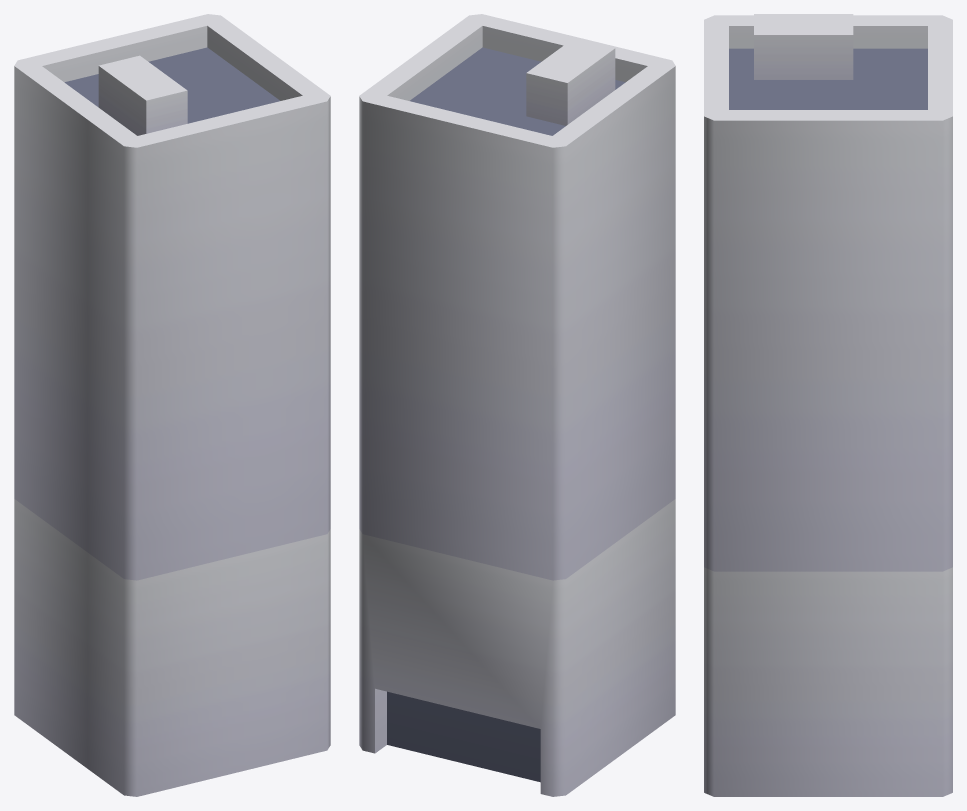
File: low-detail-building-k.glb
The picture shows the model from 3 angles, left to right: view 1: azimuth 30°, elevation 25°; view 2: azimuth 150°, elevation 25°; view 3: azimuth 270°, elevation 25°; orthographic projection. The views are drawn at different scales.
Parts seen in each view (by area): view 1: low-detail-building-k; view 2: low-detail-building-k; view 3: low-detail-building-k.
Part boxes in pixels (box(x1,y1,x2,y2)): low-detail-building-k: box(14, 14, 330, 796); low-detail-building-k: box(359, 14, 675, 796); low-detail-building-k: box(704, 14, 952, 796).
Bounding box in the file's own units: 0.5 × 1.55 × 0.5.
1 material, 1 textured.
